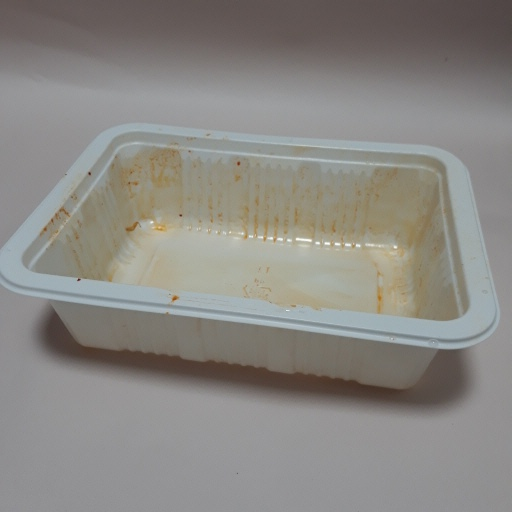Plastic_4: (4, 121, 503, 395)
